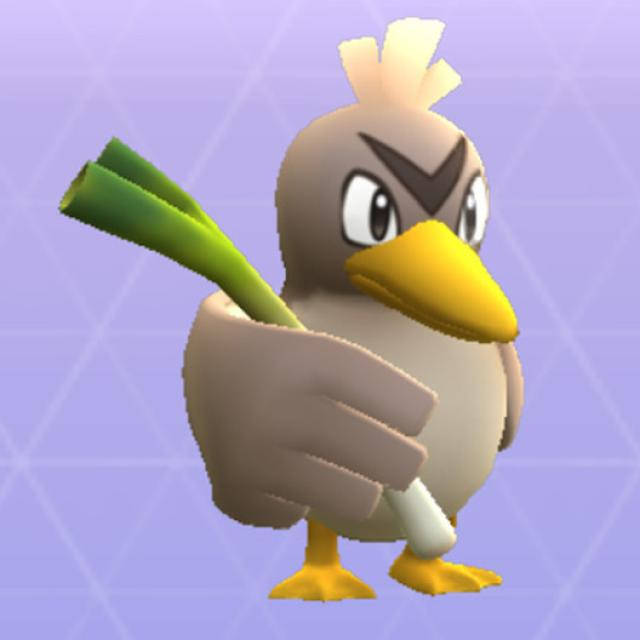Farfetchd: (162, 16, 522, 600)
